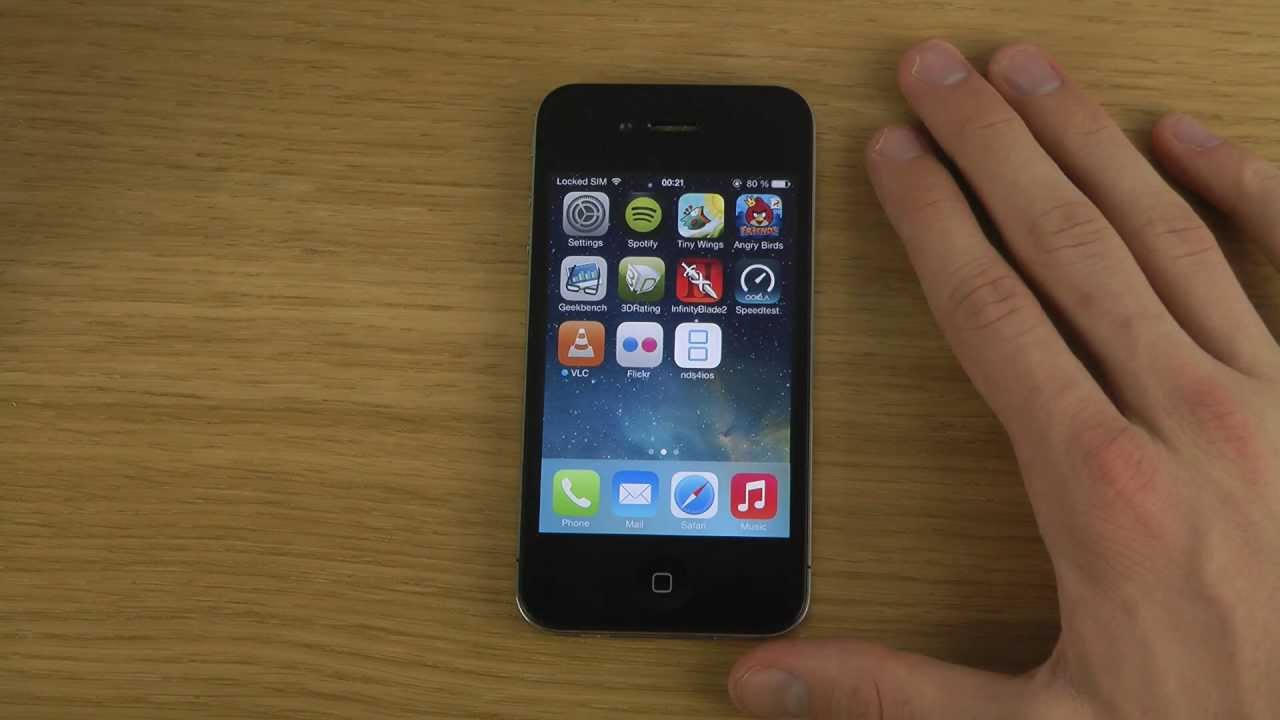iphone4: (502, 67, 823, 649)
